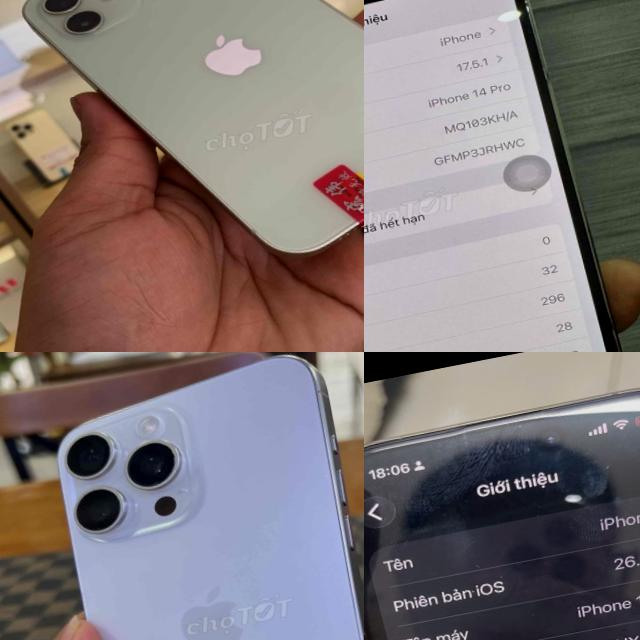gen_14: (364, 0, 640, 352)
gen_15: (7, 0, 364, 299), (23, 352, 364, 640), (364, 363, 640, 640)
